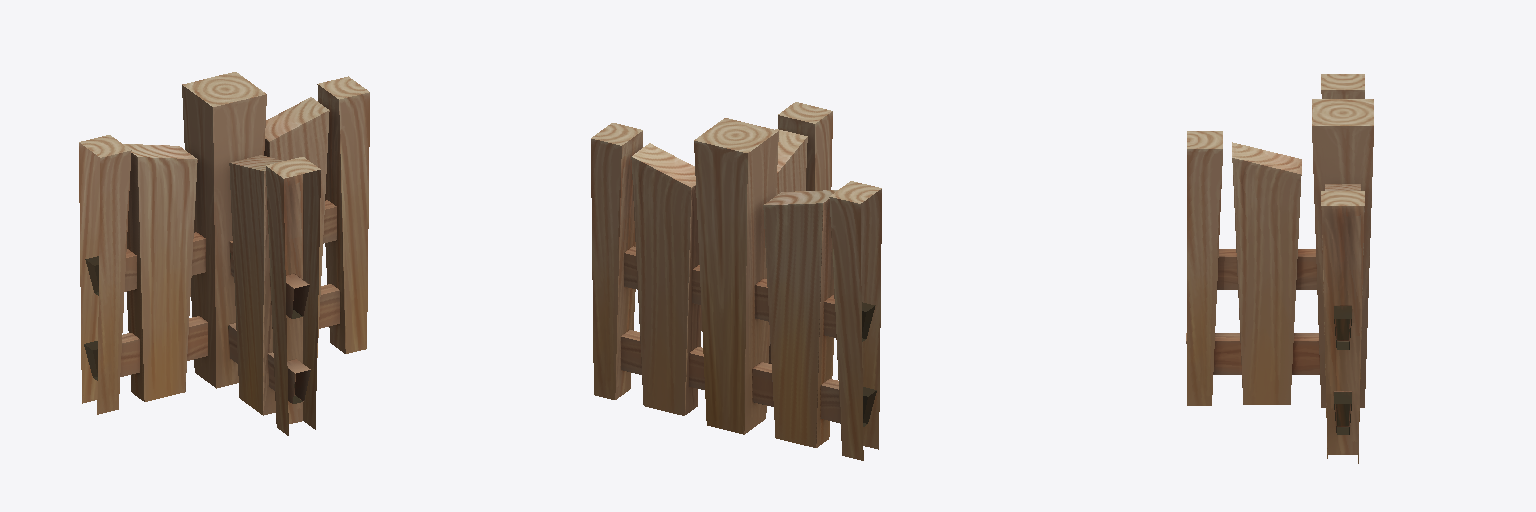
The picture shows the model from 3 angles: view 1: azimuth 30°, elevation 25°; view 2: azimuth 150°, elevation 25°; view 3: azimuth 270°, elevation 25°; orthographic projection.
Visible parts, largest first — view 1: fence2_corner3; view 2: fence2_corner3; view 3: fence2_corner3.
Part boxes in pixels (bbox=[...]): fence2_corner3: bbox=[79, 72, 369, 435]; fence2_corner3: bbox=[591, 102, 881, 460]; fence2_corner3: bbox=[1186, 74, 1373, 463].
Size of the model in its own units: 50.49 by 50.83 by 30.25.
Materials: 1 (1 with a texture image).